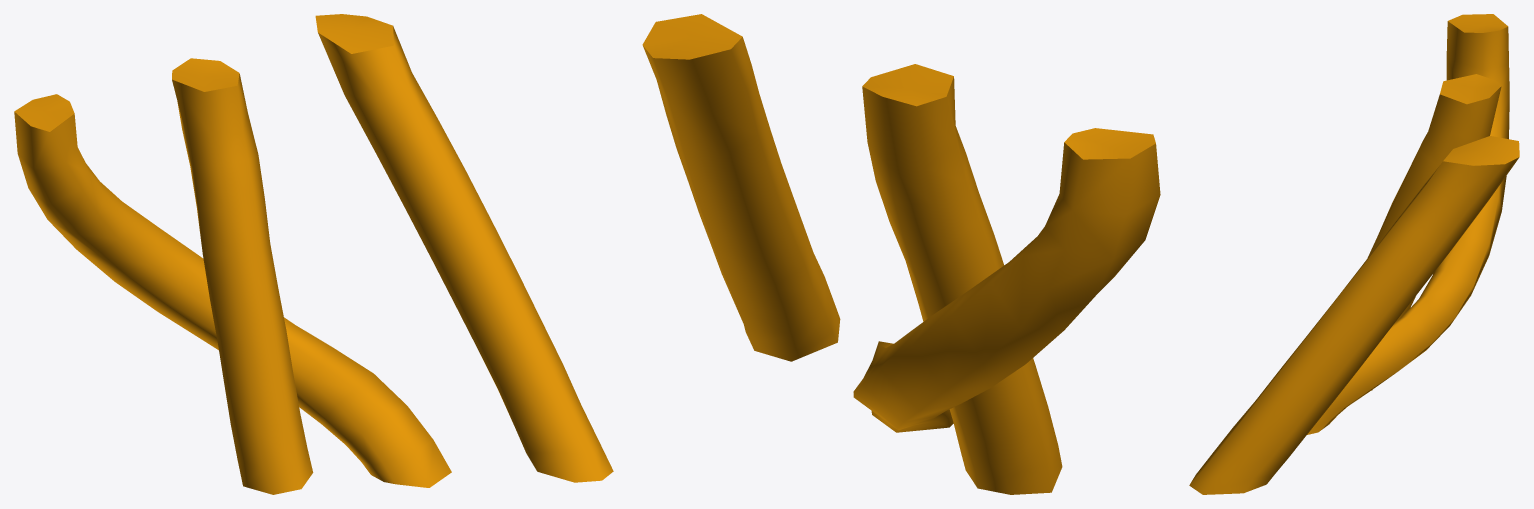
The model's file is rightSideWires.fbx.
3 renders of one model, left to right at view 1: azimuth 30°, elevation 25°; view 2: azimuth 150°, elevation 25°; view 3: azimuth 270°, elevation 25°, orthographic. The views are drawn at different scales.
Visible parts, largest first — view 1: rightSideWires; view 2: rightSideWires; view 3: rightSideWires.
Part boxes in pixels (bbox=[...]): rightSideWires: bbox=[14, 14, 613, 494]; rightSideWires: bbox=[642, 14, 1160, 494]; rightSideWires: bbox=[1189, 14, 1519, 494].
Bounding box in the file's own units: 34.31 × 26.86 × 26.06.
